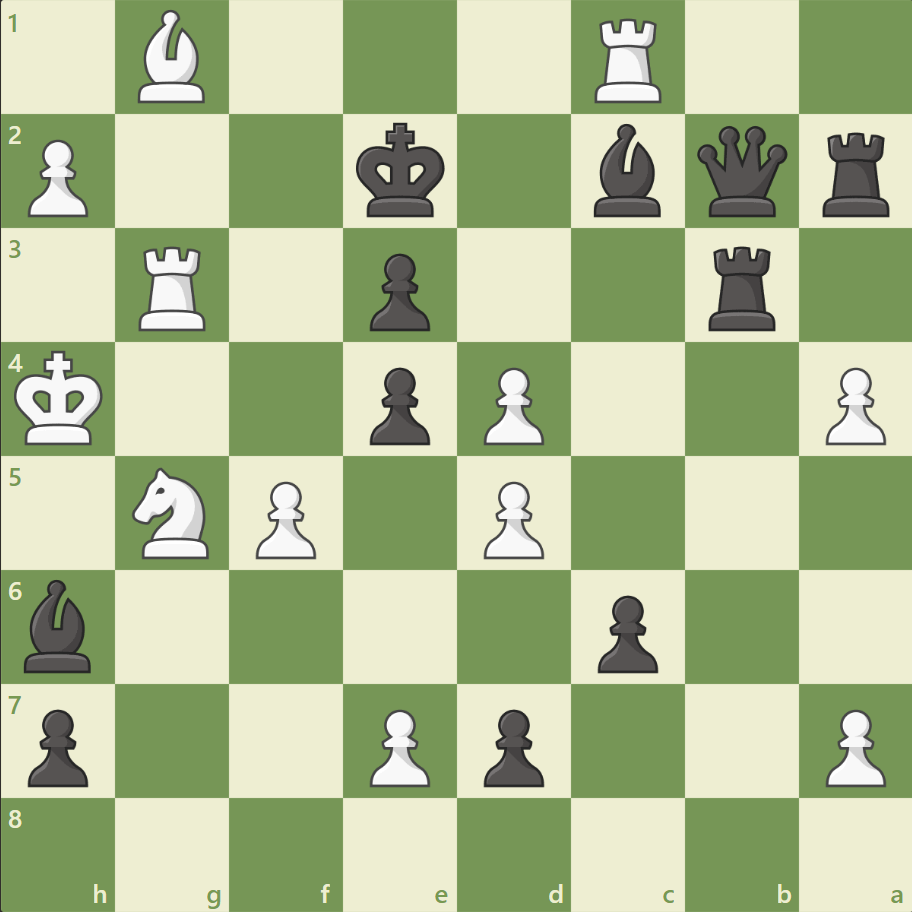B: (131, 6, 215, 109)
K: (11, 344, 111, 452)
N: (124, 461, 222, 564)
P: (474, 473, 549, 564), (247, 473, 322, 564), (474, 359, 549, 450), (20, 132, 95, 223), (815, 700, 889, 791), (361, 700, 435, 791), (815, 359, 889, 450)
R: (587, 12, 670, 109), (133, 239, 215, 336)
b: (17, 574, 101, 676), (585, 120, 669, 222)
k: (351, 117, 451, 225)
p: (474, 700, 549, 791), (20, 700, 95, 791), (588, 586, 662, 677), (361, 359, 435, 450), (361, 246, 435, 337)
q: (691, 122, 790, 222)
r: (700, 239, 783, 336), (814, 125, 897, 222)
